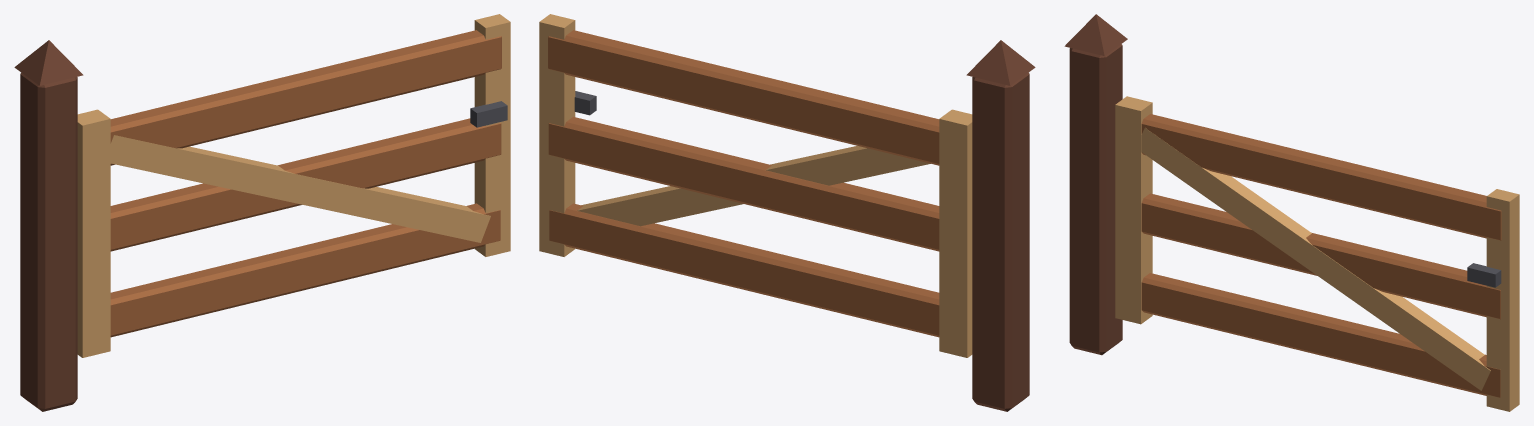
The model's file is Gate_Wood_2m.fbx.
The picture shows the model from 3 angles, left to right: view 1: azimuth 30°, elevation 25°; view 2: azimuth 150°, elevation 25°; view 3: azimuth 330°, elevation 25°; orthographic projection. The views are drawn at different scales.
Visible parts, largest first — view 1: Gate_Wood_2m; view 2: Gate_Wood_2m; view 3: Gate_Wood_2m.
Boxes of the visible parts, <box> form: Gate_Wood_2m: <box>14,14,510,411</box>; Gate_Wood_2m: <box>539,14,1035,411</box>; Gate_Wood_2m: <box>1064,14,1519,411</box>.
Bounding box in the file's own units: 1.97 × 1.43 × 0.1817.
